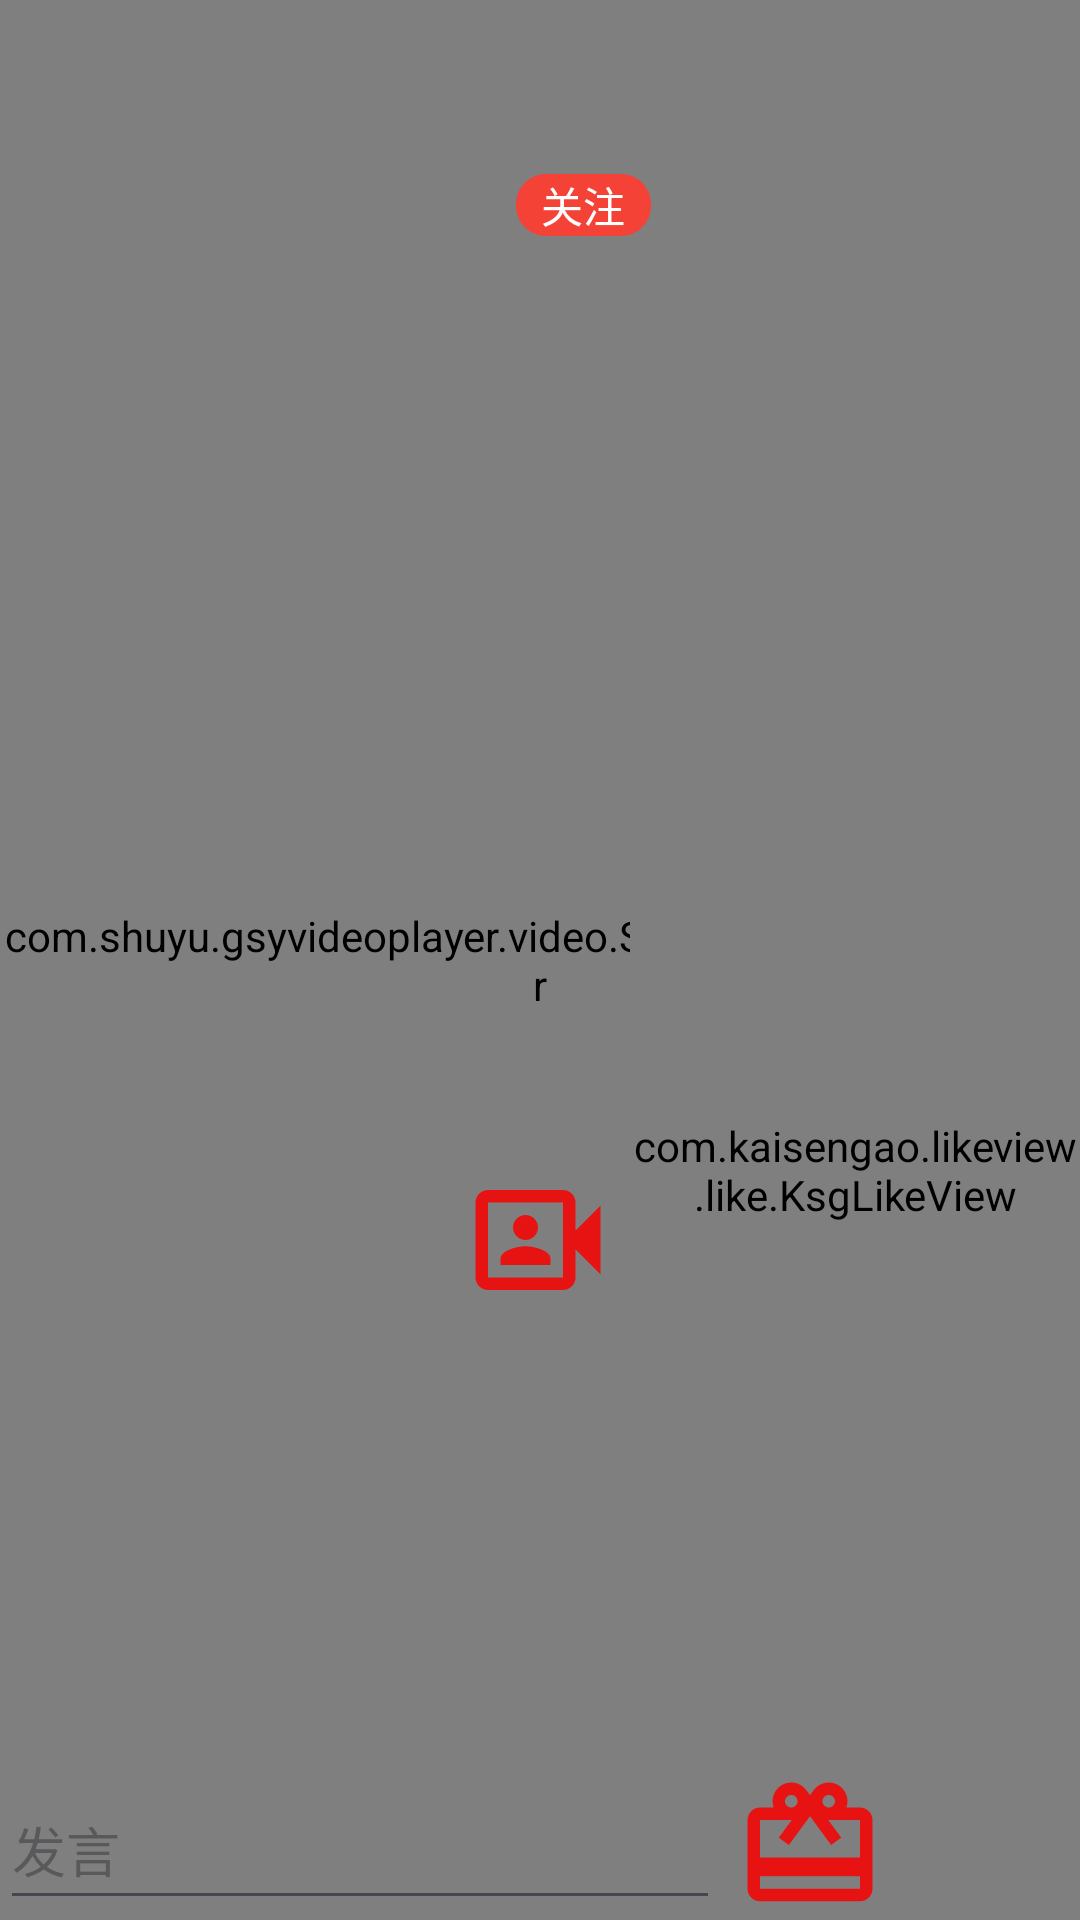

Where icons sit on this 1080x1920 app screen, as (x1, y1, x2, y2):
card giftcard lw: (747, 1782, 873, 1902)
photo camera front zb: (475, 1190, 601, 1290)
